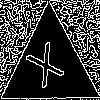X: (24, 41, 71, 98)
